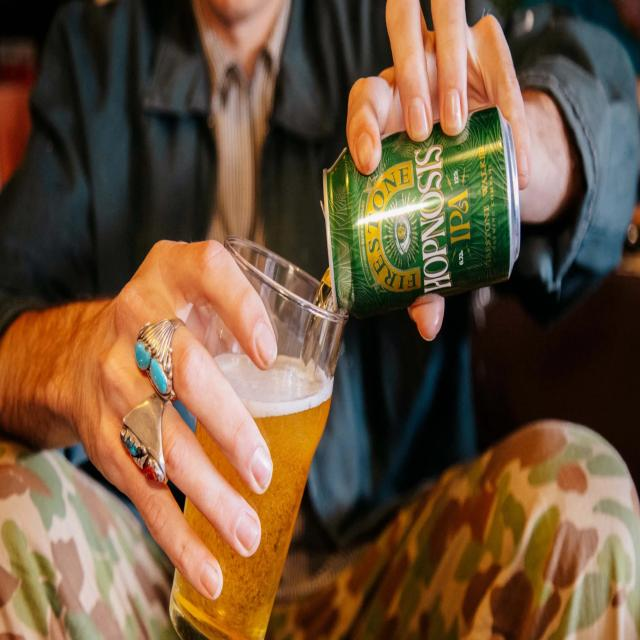can: (320, 104, 523, 321)
